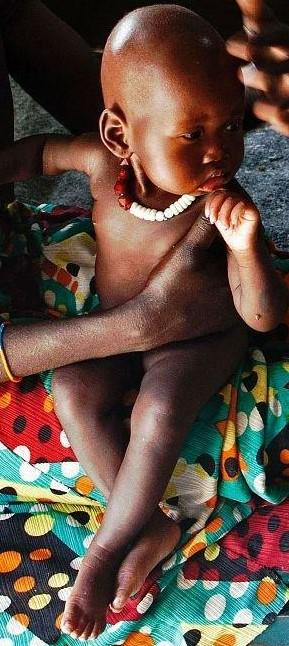Stunting: (73, 5, 289, 232)
